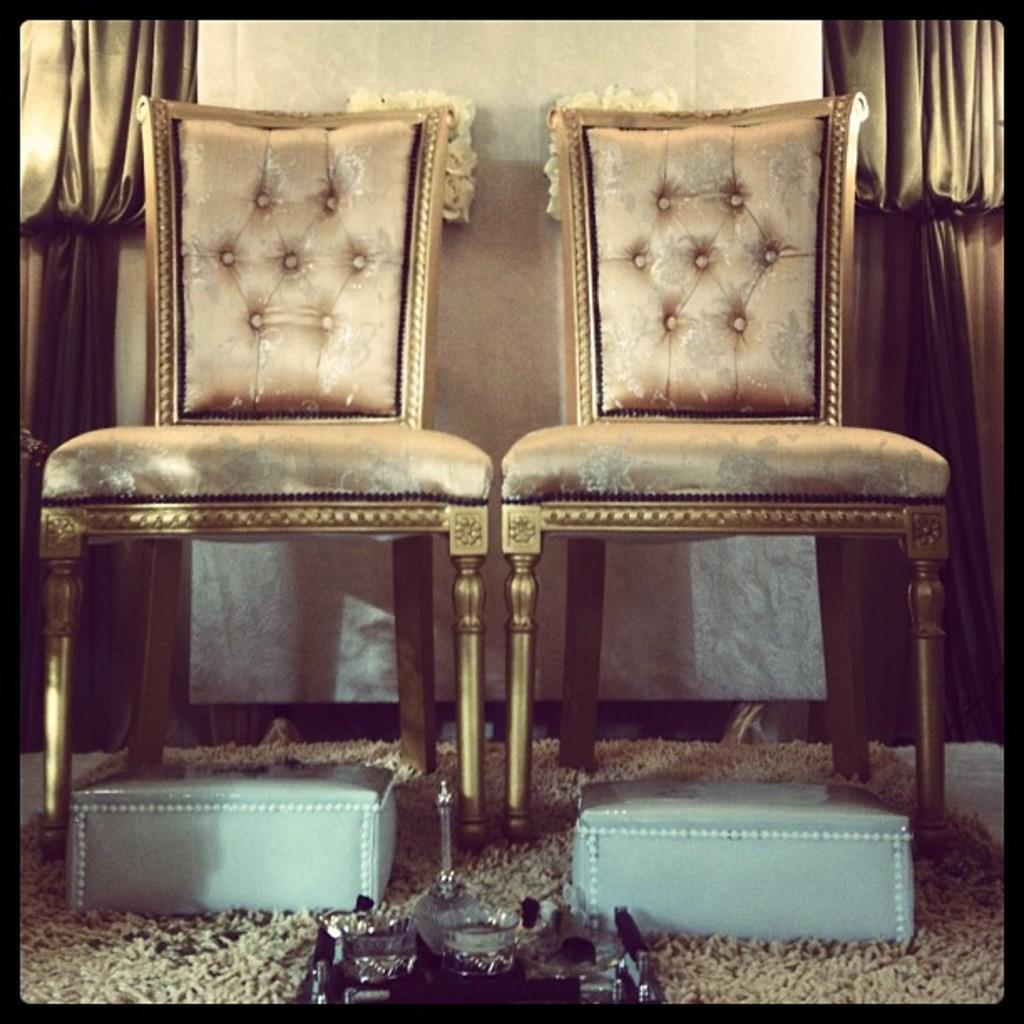Chair: (35, 85, 495, 858), (494, 95, 952, 850)
